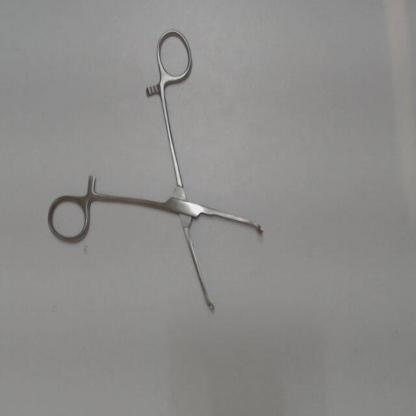Allis Tissue Forceps: (41, 20, 276, 325)
